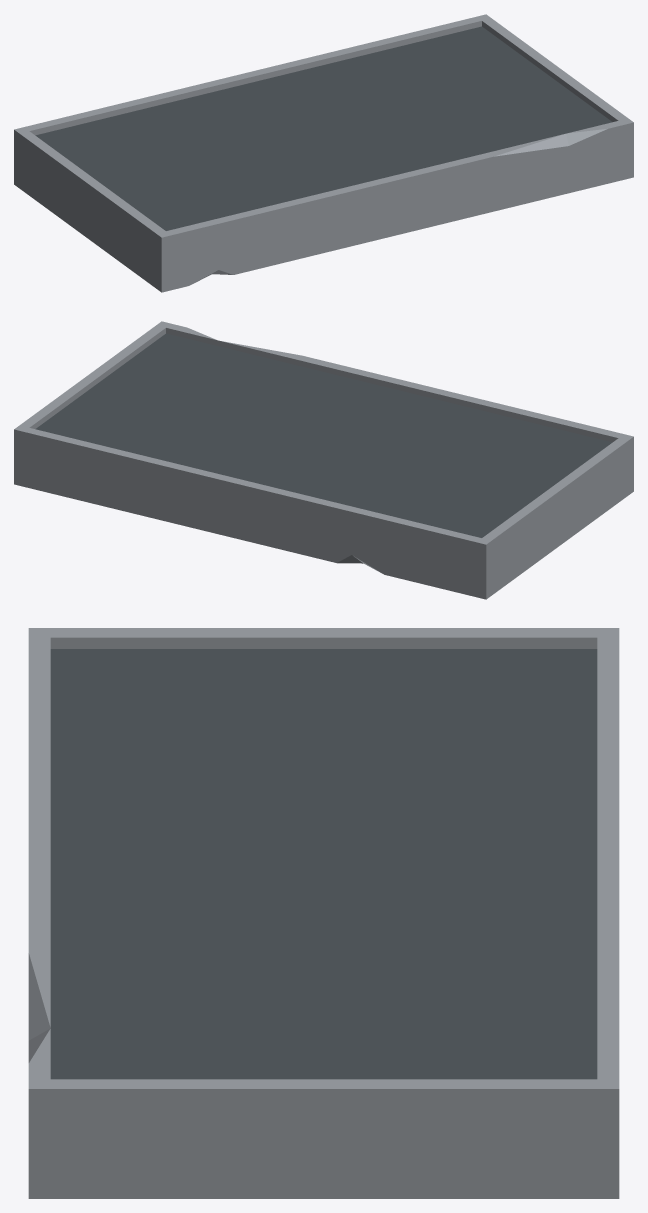
File: SM_Bld_WeatherCover_01.glb
The picture shows the model from 3 angles, top to bottom: view 1: azimuth 30°, elevation 25°; view 2: azimuth 150°, elevation 25°; view 3: azimuth 270°, elevation 25°; orthographic projection. The views are drawn at different scales.
Visible parts, largest first — view 1: SM_Bld_WeatherCover_01; view 2: SM_Bld_WeatherCover_01; view 3: SM_Bld_WeatherCover_01.
Boxes of the visible parts, left/top/right/bottom form: SM_Bld_WeatherCover_01: left=14, top=14, right=633, bottom=292; SM_Bld_WeatherCover_01: left=14, top=321, right=633, bottom=599; SM_Bld_WeatherCover_01: left=28, top=628, right=619, bottom=1198.
Size of the model in its own units: 5 by 0.5564 by 2.71.
Materials: 1 (1 with a texture image).
